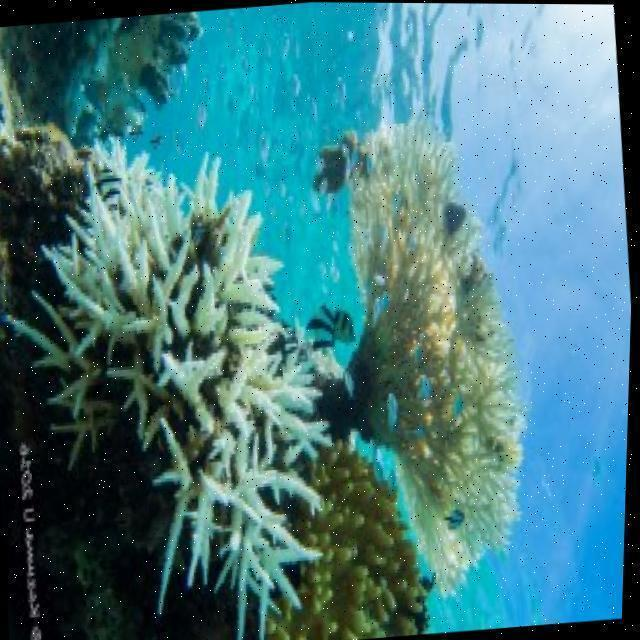Bleached Coral: (9, 140, 334, 640), (382, 93, 596, 567), (279, 443, 438, 640)
